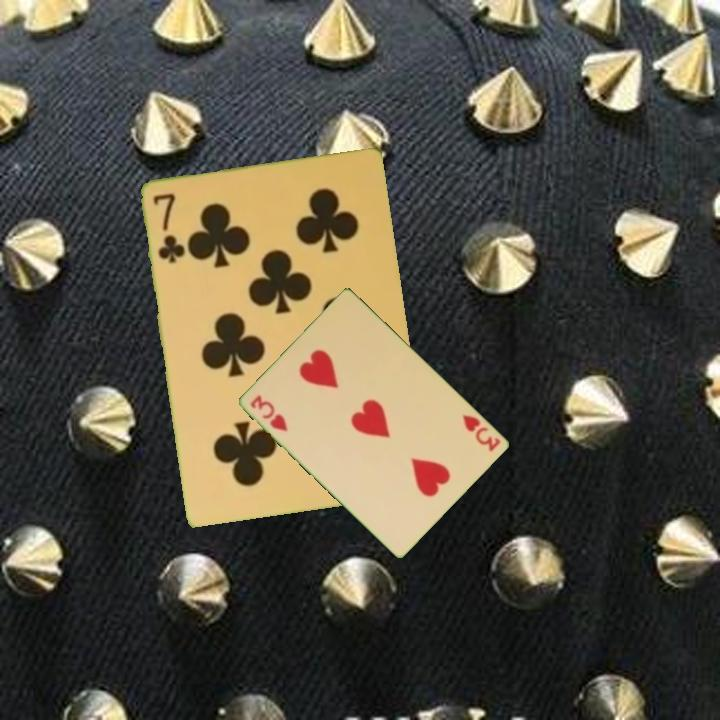3h: (247, 391, 291, 435), (459, 411, 504, 454)
7c: (150, 190, 187, 266)
